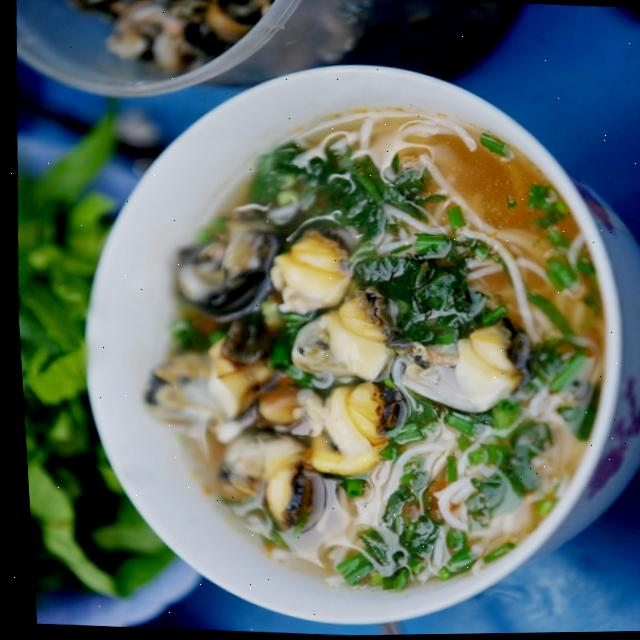面条主食: (66, 48, 640, 633)
